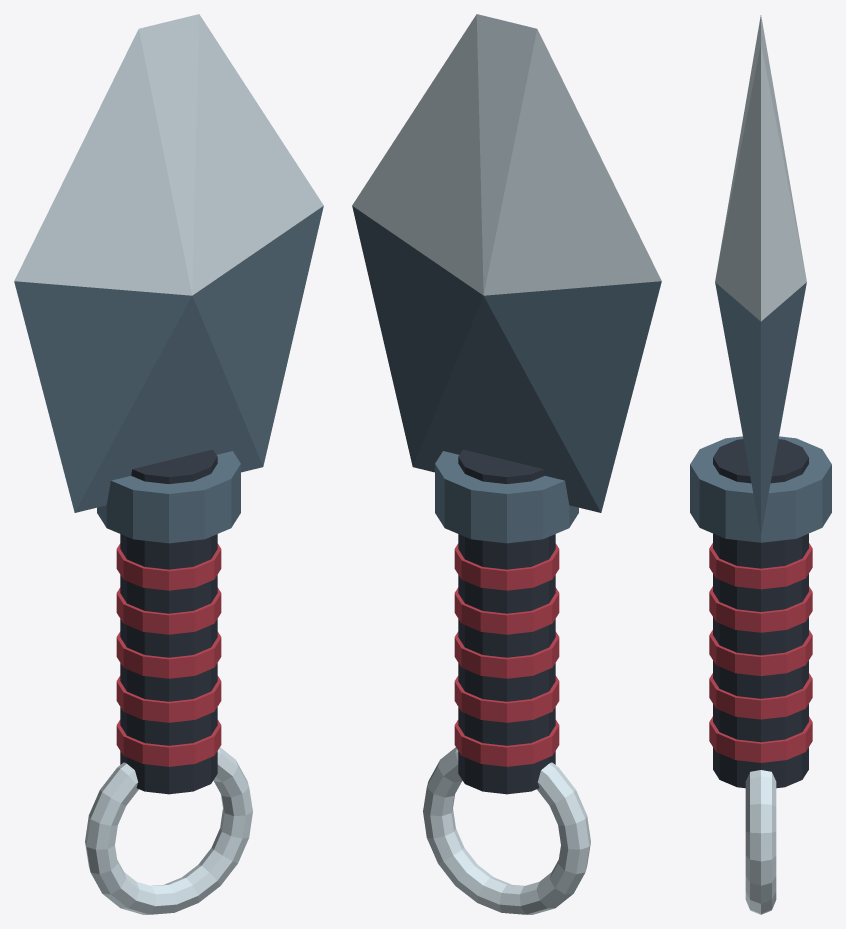
File: Tenten_Kunai.fbx
The picture shows the model from 3 angles, left to right: view 1: azimuth 30°, elevation 25°; view 2: azimuth 150°, elevation 25°; view 3: azimuth 270°, elevation 25°; orthographic projection.
Parts seen in each view (by area): view 1: Tenten Kunai; view 2: Tenten Kunai; view 3: Tenten Kunai.
Part boxes in pixels (bbox=[...]): Tenten Kunai: bbox=[14, 14, 323, 914]; Tenten Kunai: bbox=[352, 14, 661, 914]; Tenten Kunai: bbox=[690, 15, 831, 914].
Size of the model in its own units: 18.4 by 50.6 by 7.4.
